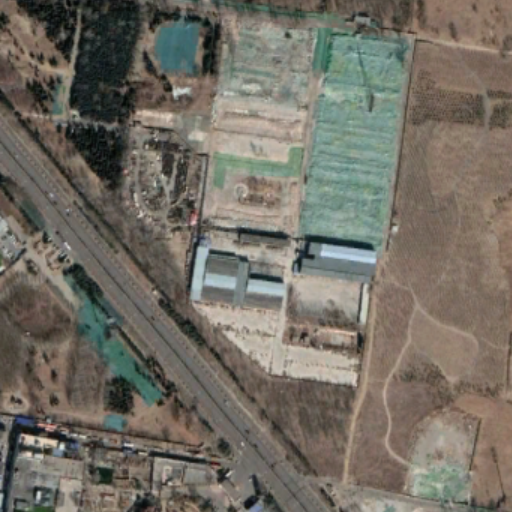cw: (203, 8, 412, 251)
